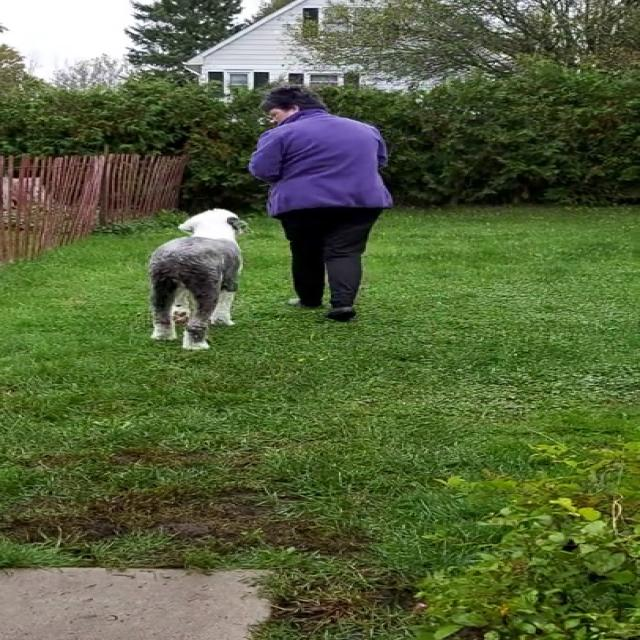Unleashed_Dog: (146, 205, 364, 351)
